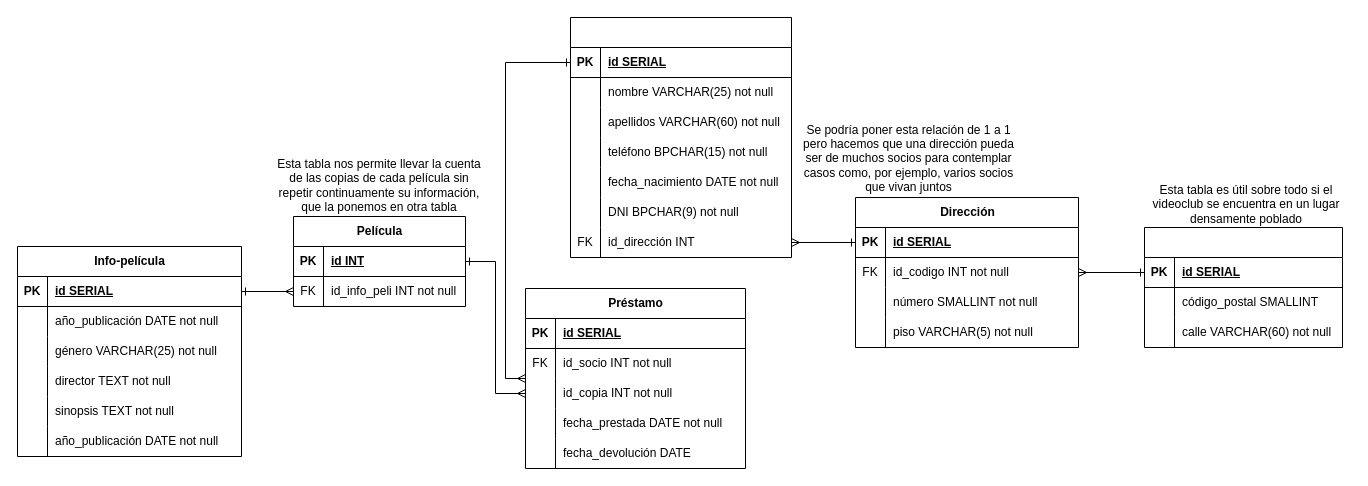
The diagram is 1368 pixels wide and 486 high, and some of its shapes have lost their labels. Here are the shapes that lost their labels. From the top down, the box of each, then its label:
(570, 16, 792, 258): Socio
(1144, 226, 1342, 348): Código-calle
